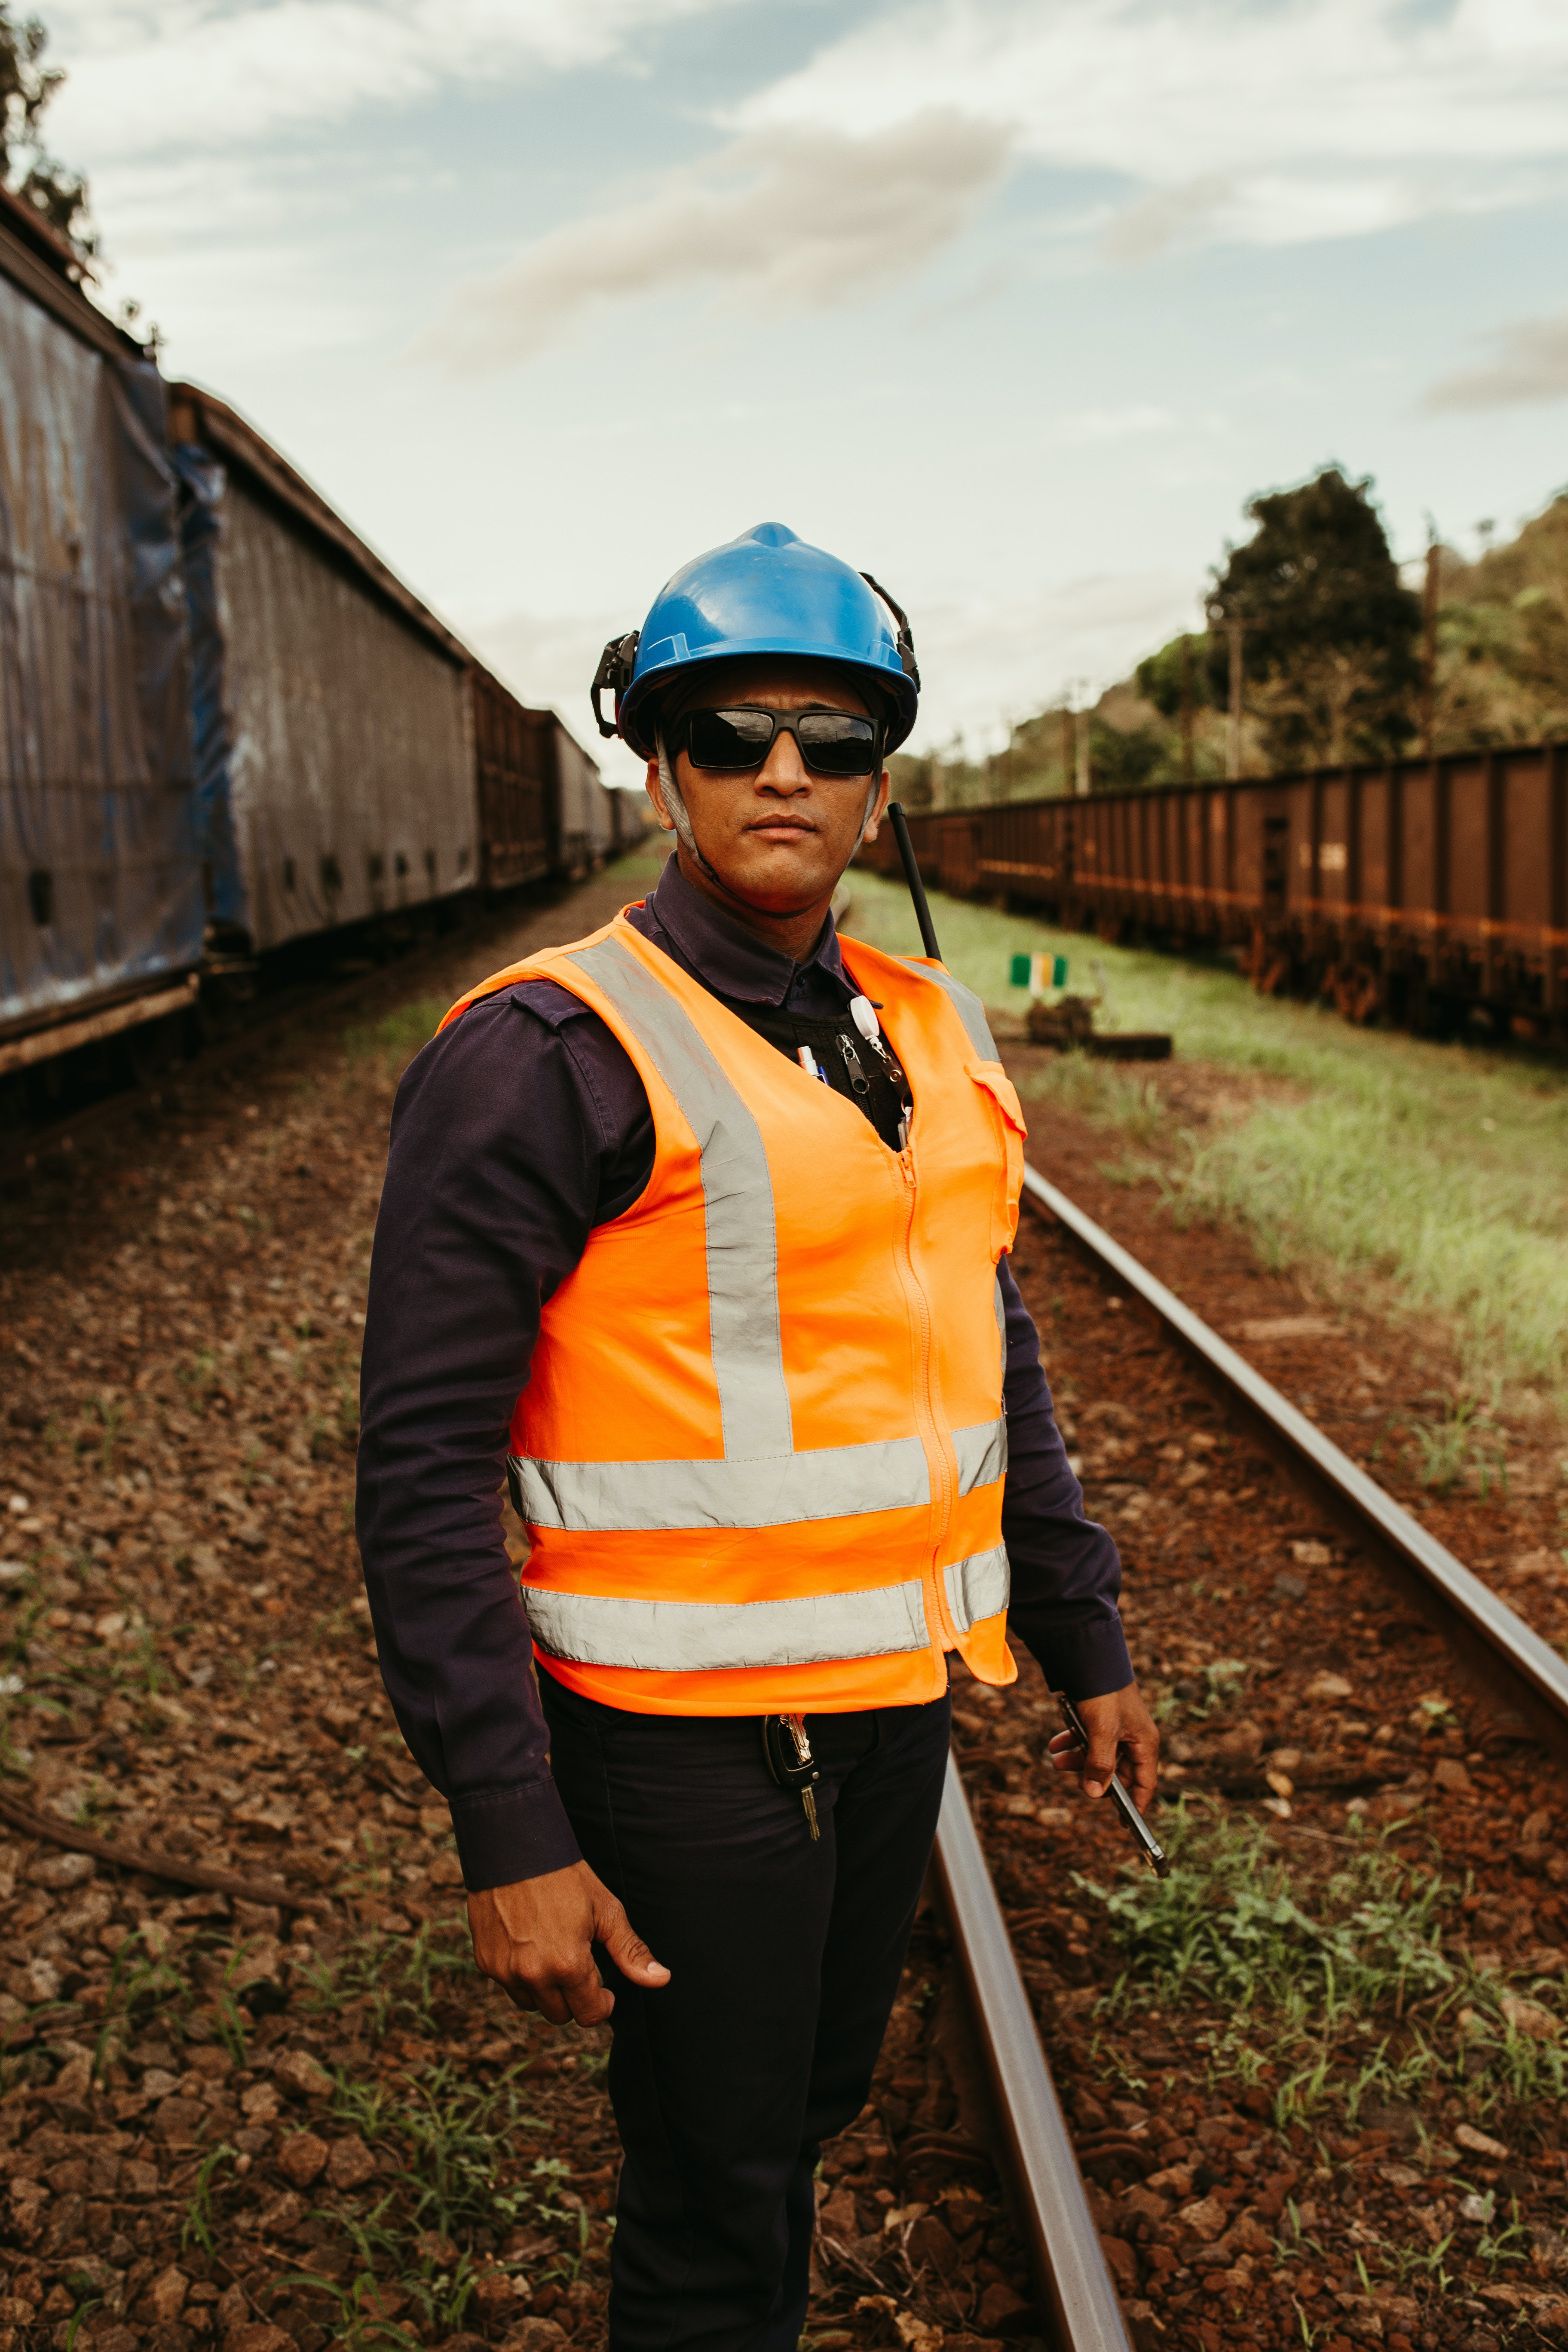Helmet: (583, 490, 976, 950)
Reflective vest: (439, 898, 1050, 1746)
